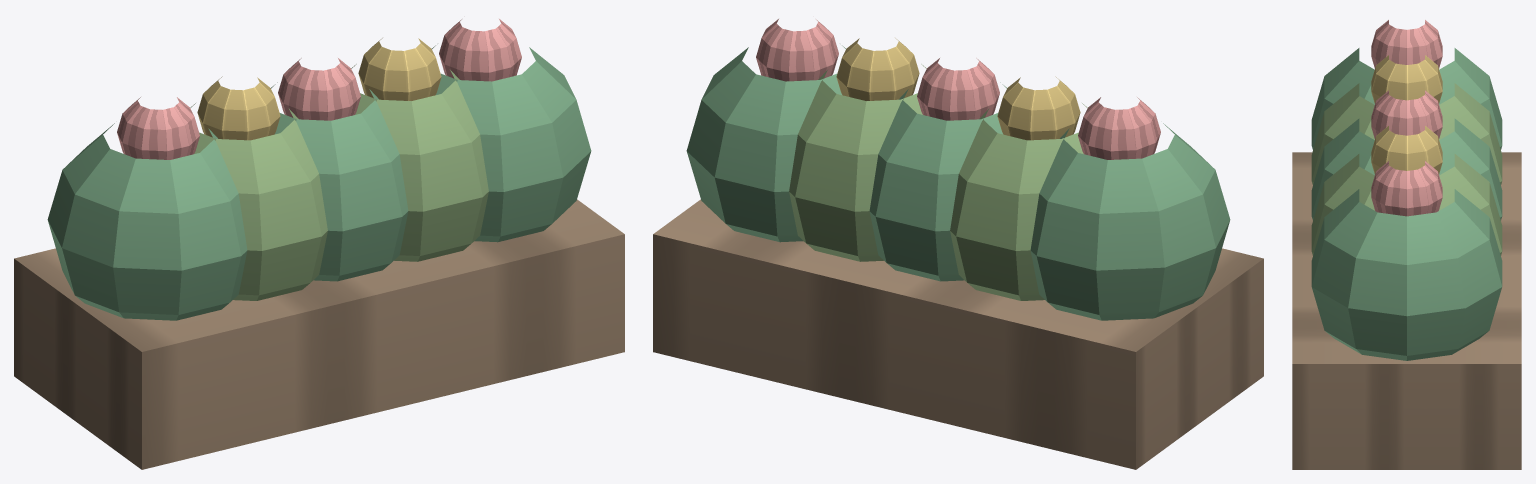
Rendered from flower_shrub.glb.
The picture shows the model from 3 angles, left to right: view 1: azimuth 30°, elevation 25°; view 2: azimuth 150°, elevation 25°; view 3: azimuth 270°, elevation 25°; orthographic projection. The views are drawn at different scales.
Parts seen in each view (by area): view 1: flower_shrub; view 2: flower_shrub; view 3: flower_shrub.
Part boxes in pixels (left/top/right/bottom): flower_shrub: left=14, top=19, right=624, bottom=469; flower_shrub: left=653, top=19, right=1263, bottom=469; flower_shrub: left=1292, top=20, right=1521, bottom=469.
Size of the model in its own units: 2.56 by 1.46 by 1.1.
Materials: 1 (1 with a texture image).
